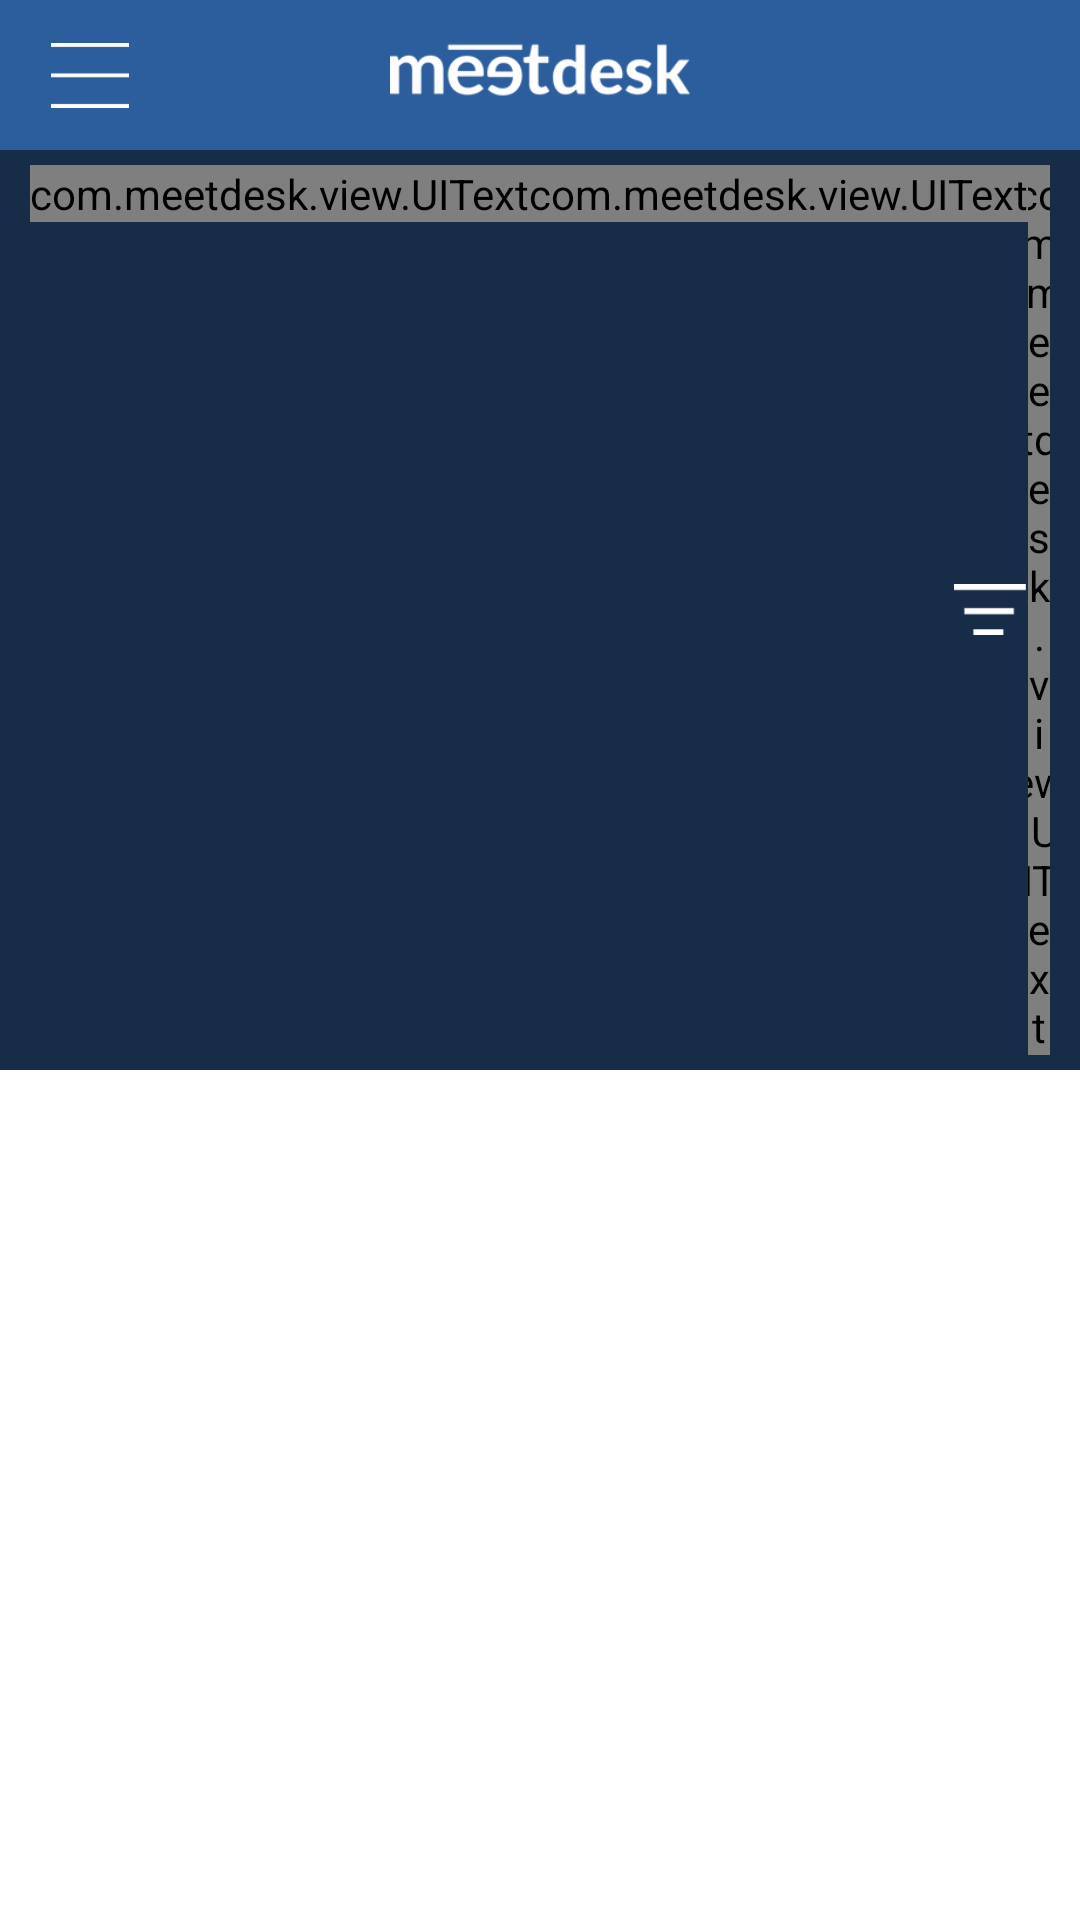

Screen size 1080w x 1920h. Icon name, then its box in pixels as [x1=x1, y1=y1, x2=x2, y2=y2]:
menu: [x1=51, y1=43, x2=129, y2=108]
